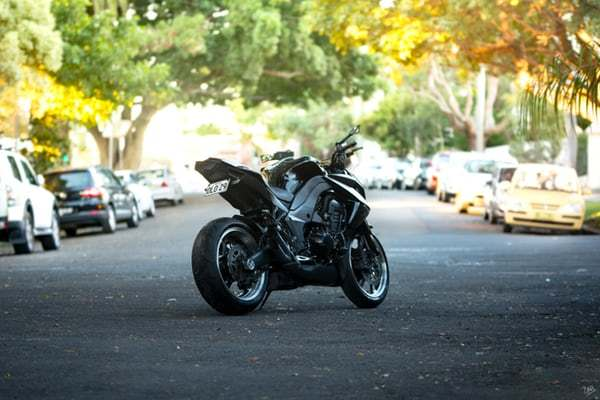4_label: (114, 70, 443, 328)
